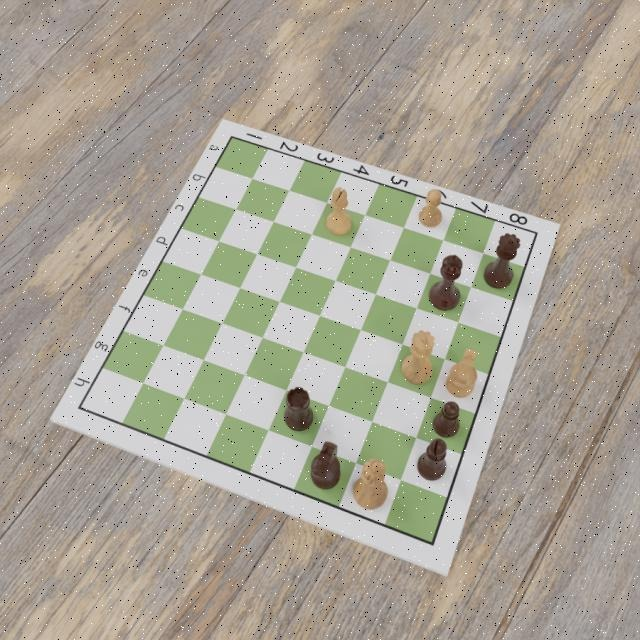black-bishop: (416, 438, 451, 480)
black-king: (426, 254, 464, 313)
black-knight: (310, 441, 342, 490)
black-pawn: (432, 401, 460, 439)
black-queen: (482, 233, 522, 291)
black-rook: (281, 385, 314, 432)
white-bishop: (324, 185, 354, 234)
white-king: (354, 454, 389, 514)
white-knight: (444, 347, 479, 400)
white-pawn: (419, 187, 445, 229)
white-queen: (400, 329, 436, 387)
